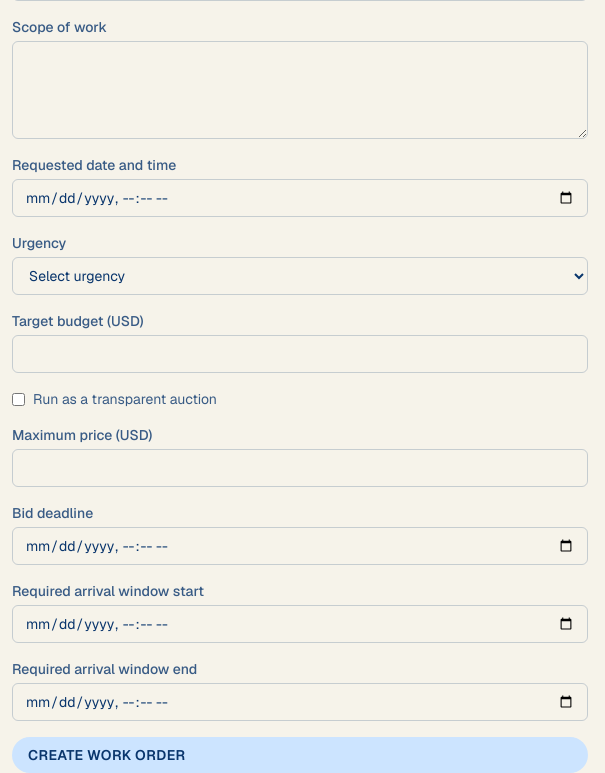
Test: NewWorkOrderForm › blocks submit and shows errors when required fields are missing
(page scrolled)
Click the button "Create Work Order" at (107, 755), box [12,737,588,772]
(page scrolled)
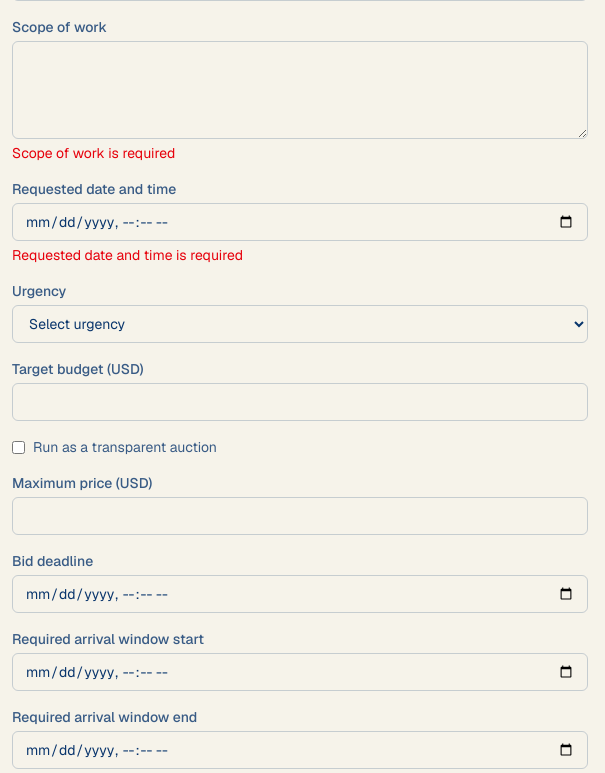
Result: the text "Scope of work is required" is shown at [12,144,175,162]
Result: the text "Requested date and time is required" is shown at [12,246,243,264]
